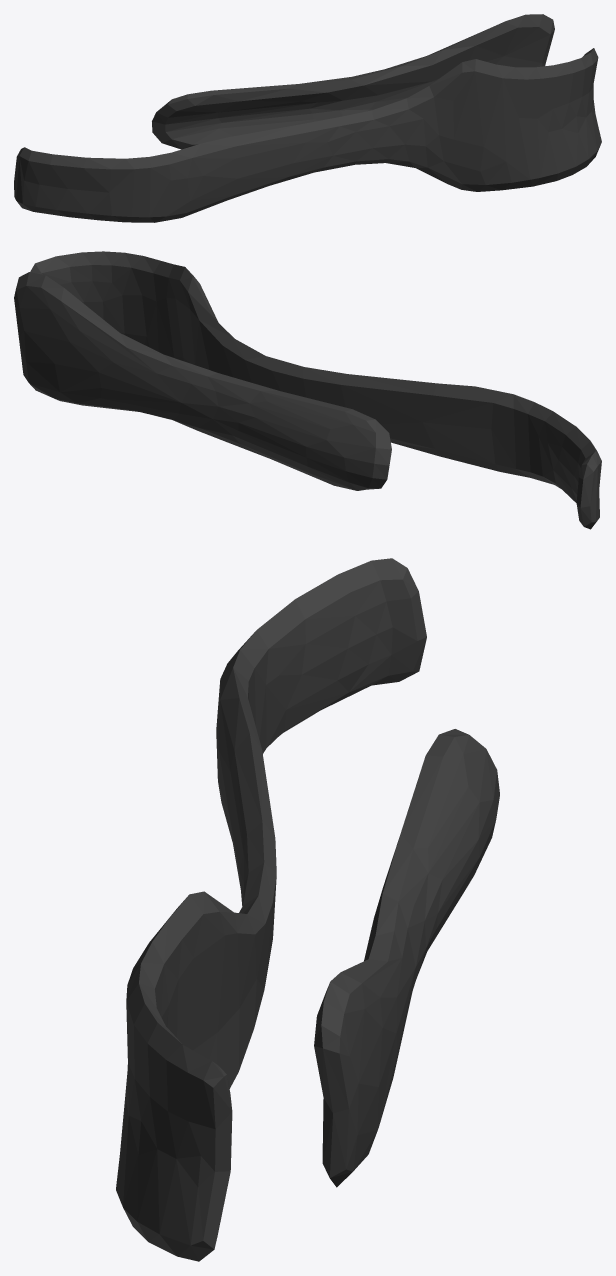
File: Pelvis_pelvic_symphysis.glb
The picture shows the model from 3 angles, top to bottom: view 1: azimuth 30°, elevation 25°; view 2: azimuth 150°, elevation 25°; view 3: azimuth 270°, elevation 25°; orthographic projection. The views are drawn at different scales.
Visible parts, largest first — view 1: Pelvis_pelvic_symphysis; view 2: Pelvis_pelvic_symphysis; view 3: Pelvis_pelvic_symphysis.
Part boxes in pixels (<box>): Pelvis_pelvic_symphysis: <box>14,14,601,222</box>; Pelvis_pelvic_symphysis: <box>14,251,601,529</box>; Pelvis_pelvic_symphysis: <box>116,558,499,1261</box>.
Size of the model in its own units: 2.28 by 0.5316 by 0.7095.
Materials: 1 (1 with a texture image).
